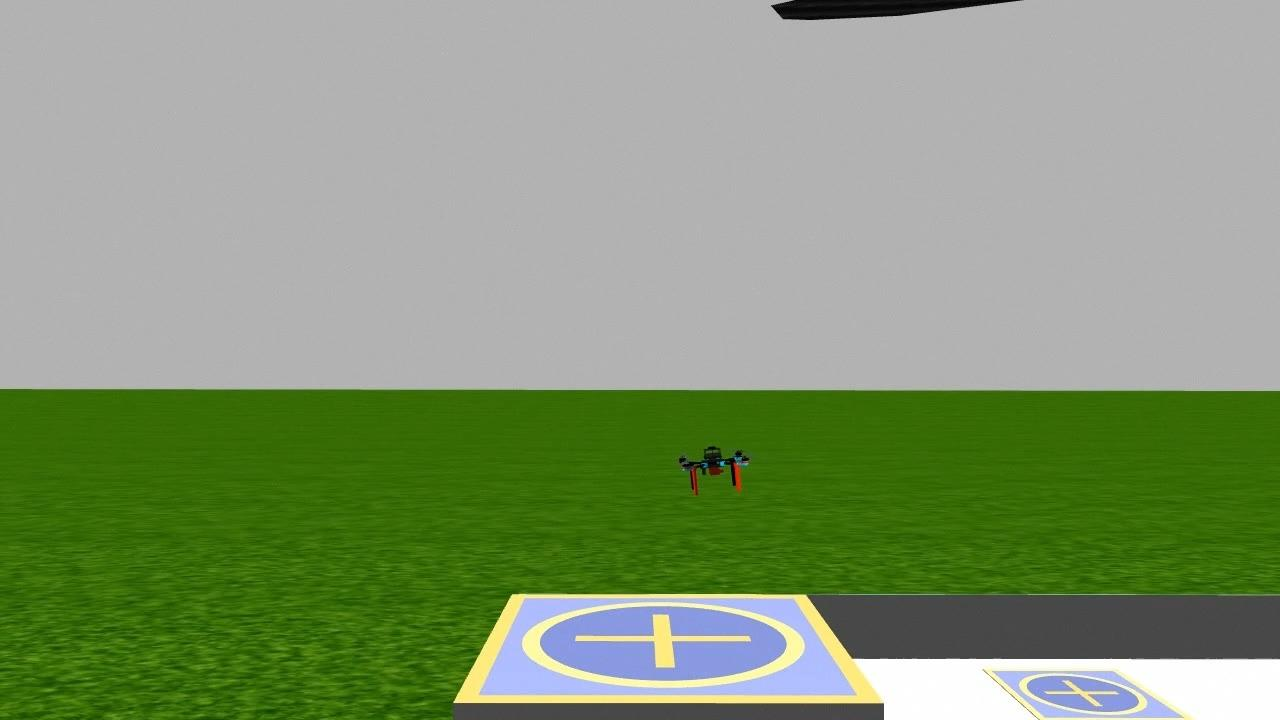UAV: (669, 438, 764, 519)
